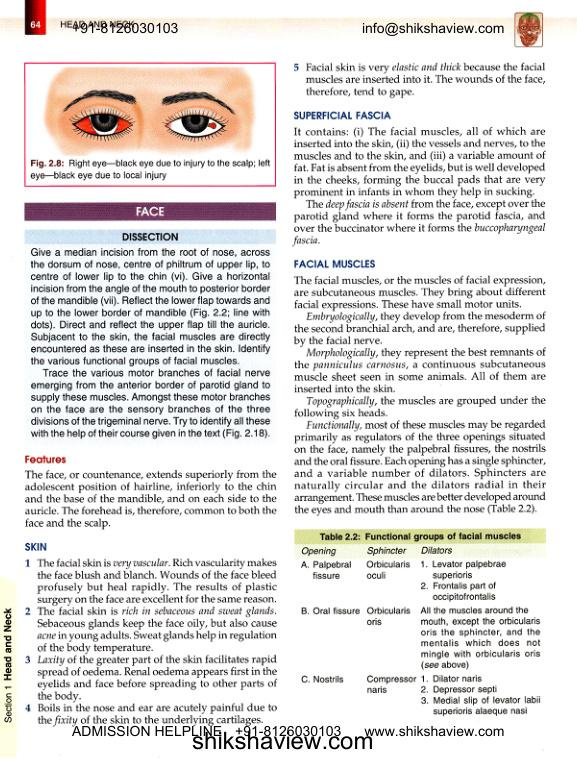caption: (29, 158, 271, 181), (318, 532, 522, 542), (121, 231, 179, 242)
image: (24, 62, 276, 187)
list: (22, 556, 279, 725), (293, 61, 547, 98)
section-heading: (135, 205, 166, 217)
sub-section-heading: (293, 110, 393, 121), (293, 258, 377, 270), (24, 454, 67, 465), (24, 541, 48, 552)
table: (294, 543, 546, 718)
text: (293, 275, 547, 516), (29, 246, 272, 441), (292, 125, 547, 246), (24, 469, 278, 530)
